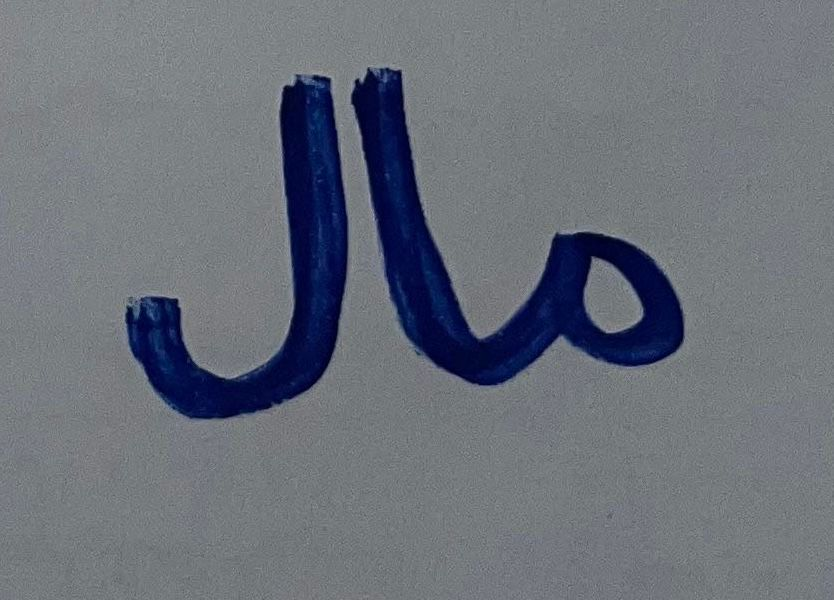alef: (358, 44, 493, 397)
lam: (122, 35, 351, 431)
meem: (505, 212, 700, 390)
